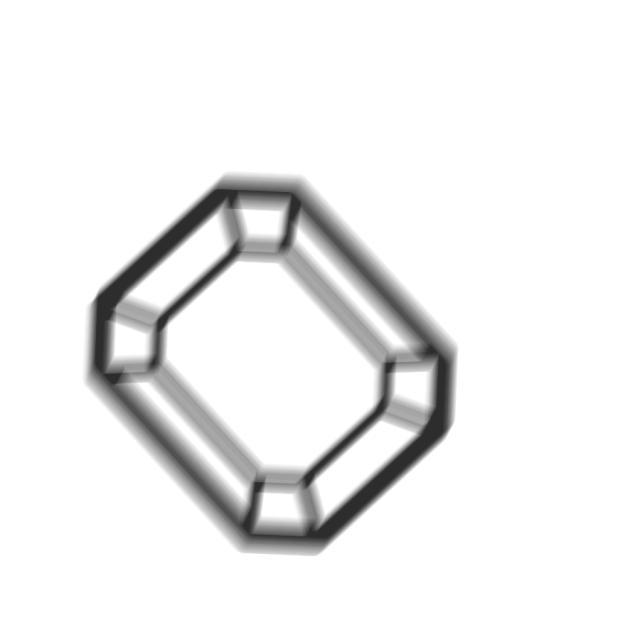emerald: (76, 169, 466, 565)
